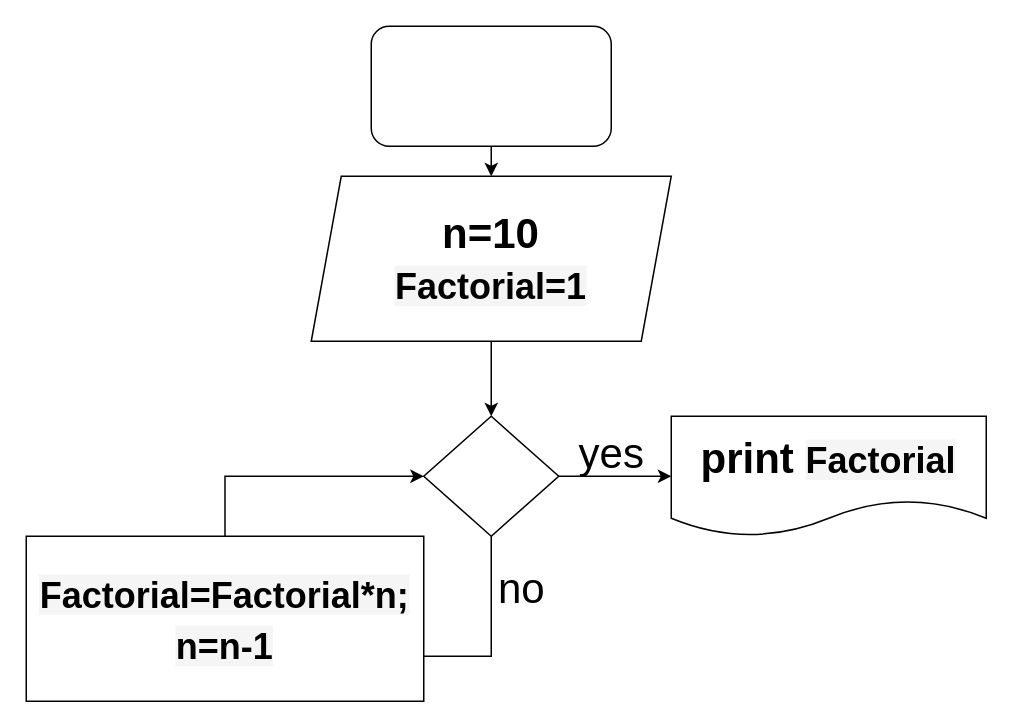
Image size: 1013x728. Some labels were removed from this diagram. The shapes that lost their labels are listed below. From the top down, each one's centre as x and y in pixels, then its label:
At (490,85): "Start".
At (490,475): "n<1".
